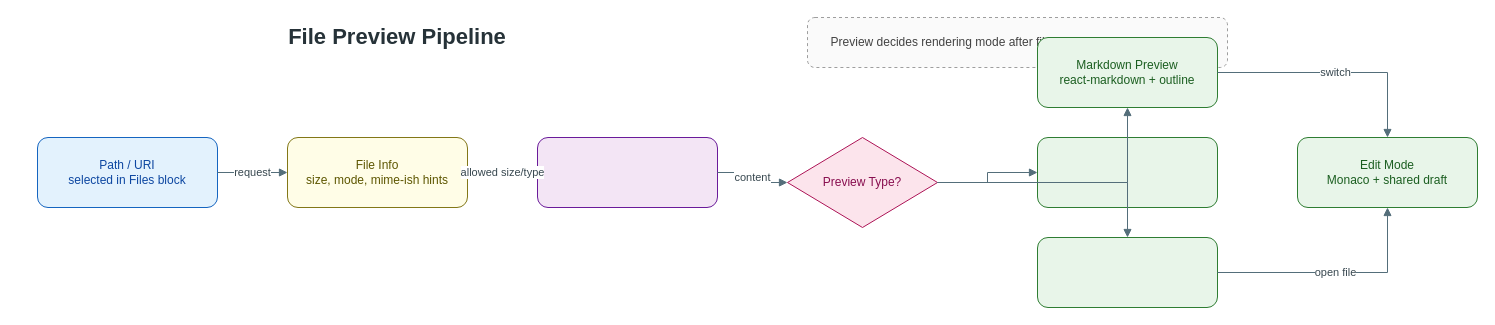
Some shapes in this 1495 by 325 pixel diagram are drawn without their labels. Each missing label, with the box of its shape:
CSV / Directory table or explorer: (1036, 236, 1218, 308)
Image / Video / PDF inline media preview: (1036, 136, 1218, 208)
Read / Stream Data remote or local: (536, 136, 718, 208)
